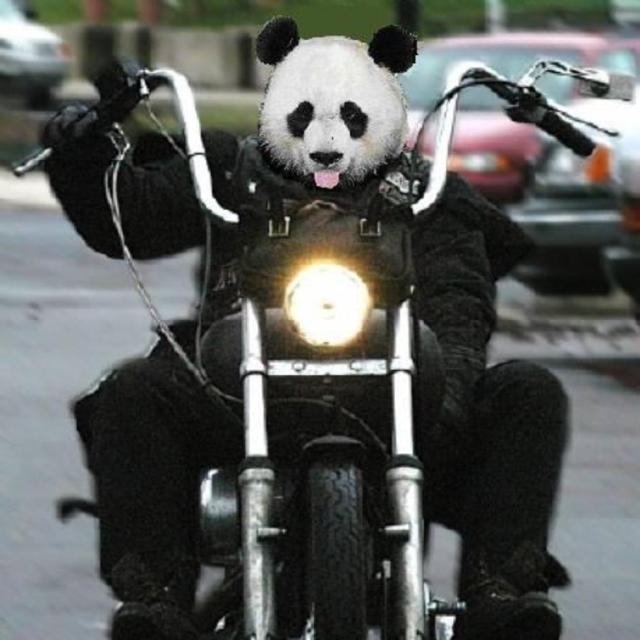panda: (35, 11, 572, 639)
